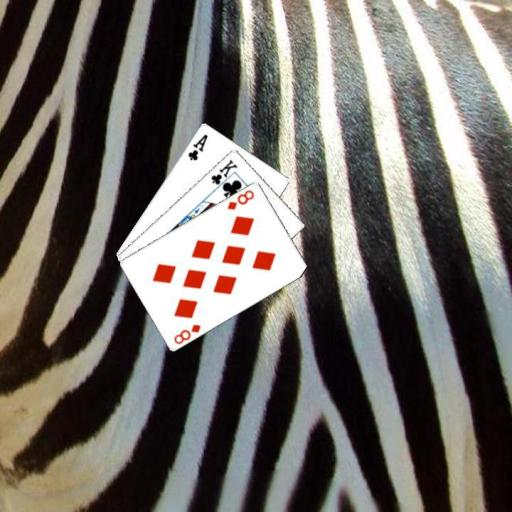8D: (224, 187, 256, 212), (171, 321, 203, 346)
AC: (185, 131, 209, 161)
KC: (208, 156, 239, 192)
